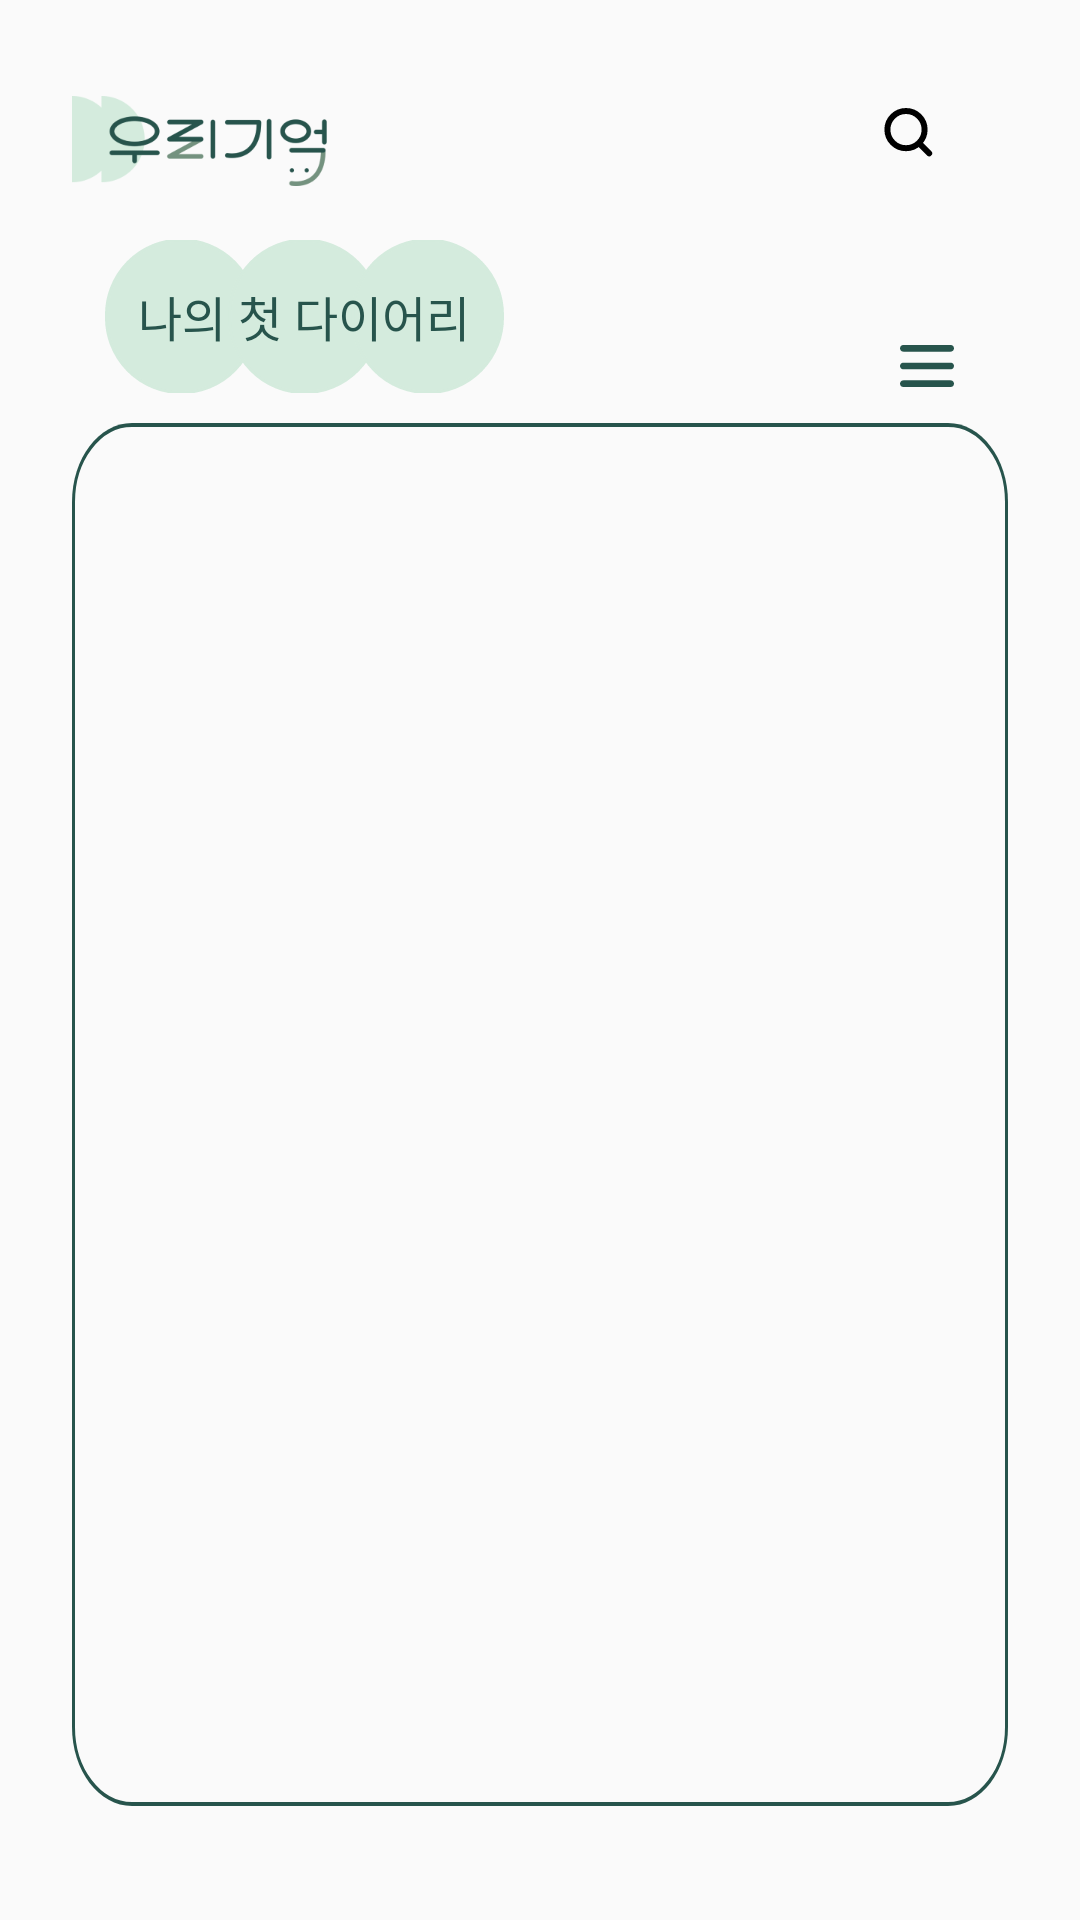

Screen size 1080 x 1920. Icon name, then its center in pixels as (x,y):
search: (908,132)
